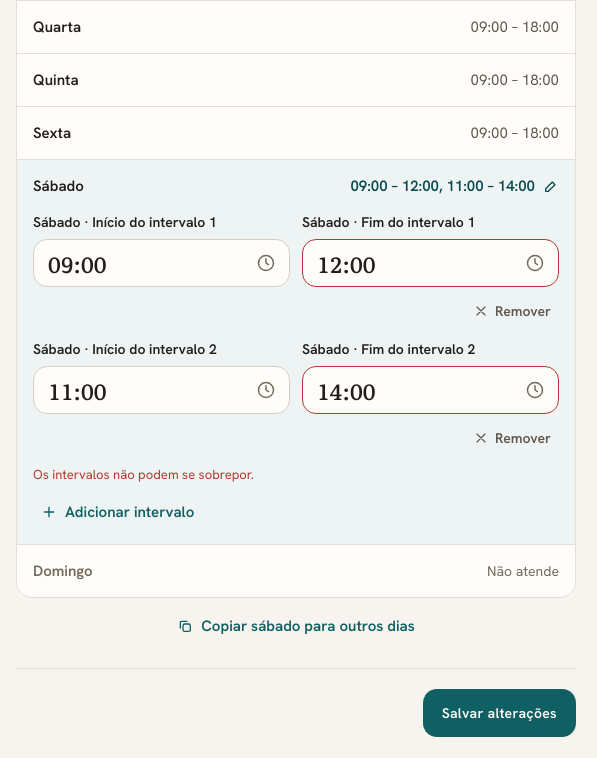
it: o horário da semana como no onboarding › intervalos sobrepostos num dia com horário próprio são recusados no próprio dia, sem PATCH
(page scrolled)
What coordinates should you click on to do the following:
click the button "Salvar alterações"
I would click on:
 (499, 714)
Its box is top-left (423, 690), bottom-right (576, 738).
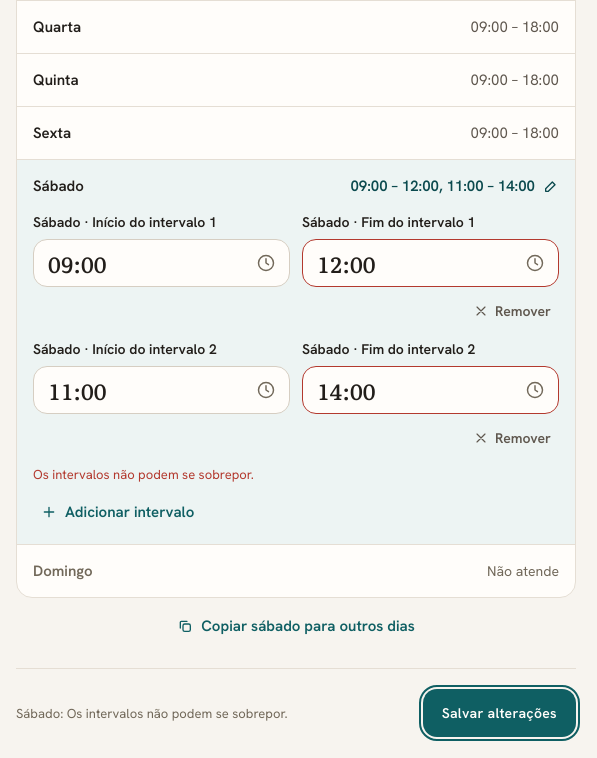
Expected: the message "Sábado: Os intervalos não podem se sobrepor." is shown, top-left (16, 704), bottom-right (288, 723)
